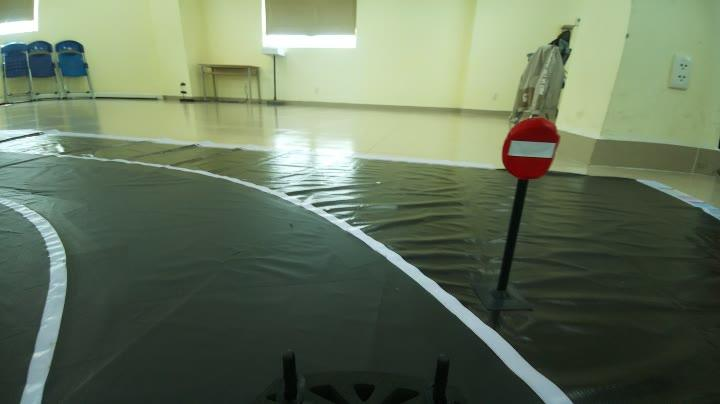no_entry: (504, 112, 562, 182)
